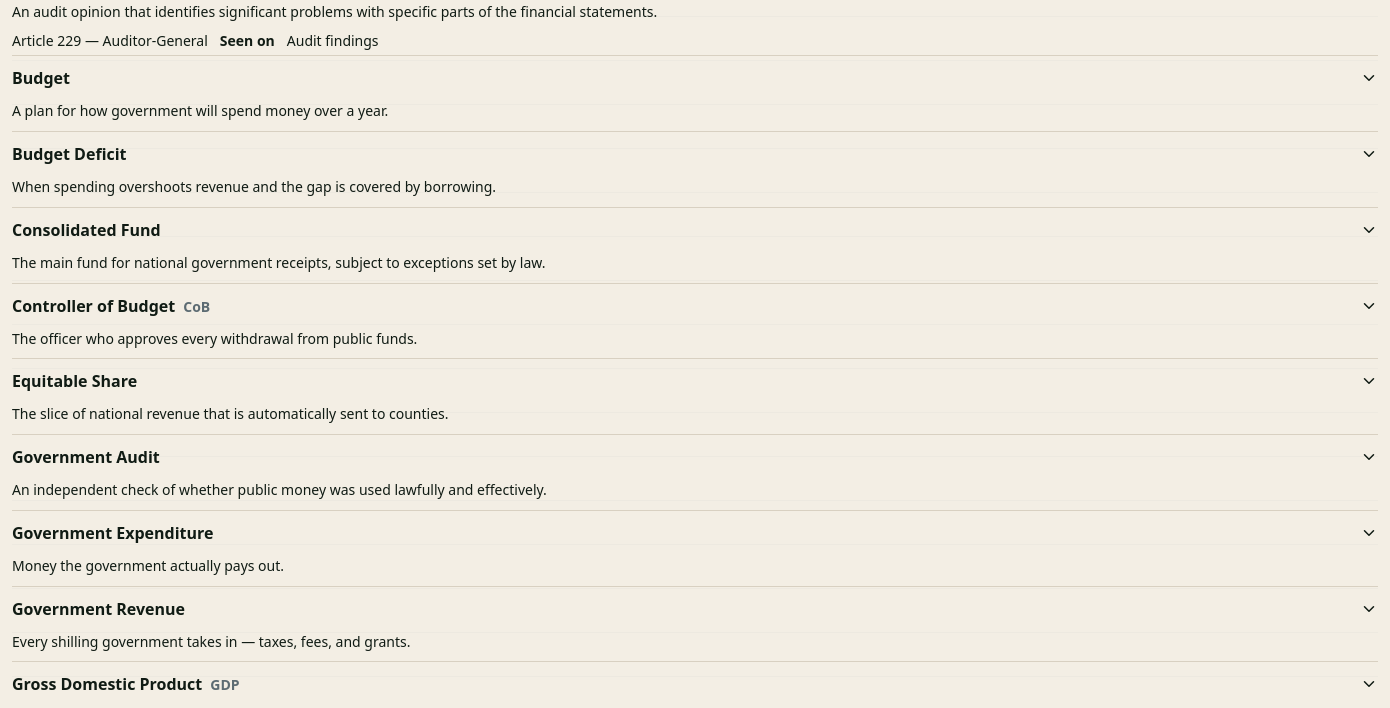
keeps the projected basis and only links a supplied live-example receipt
(page scrolled)
Click the button "Equitable Share": coordinates (75, 381) [12,359,1378,403]
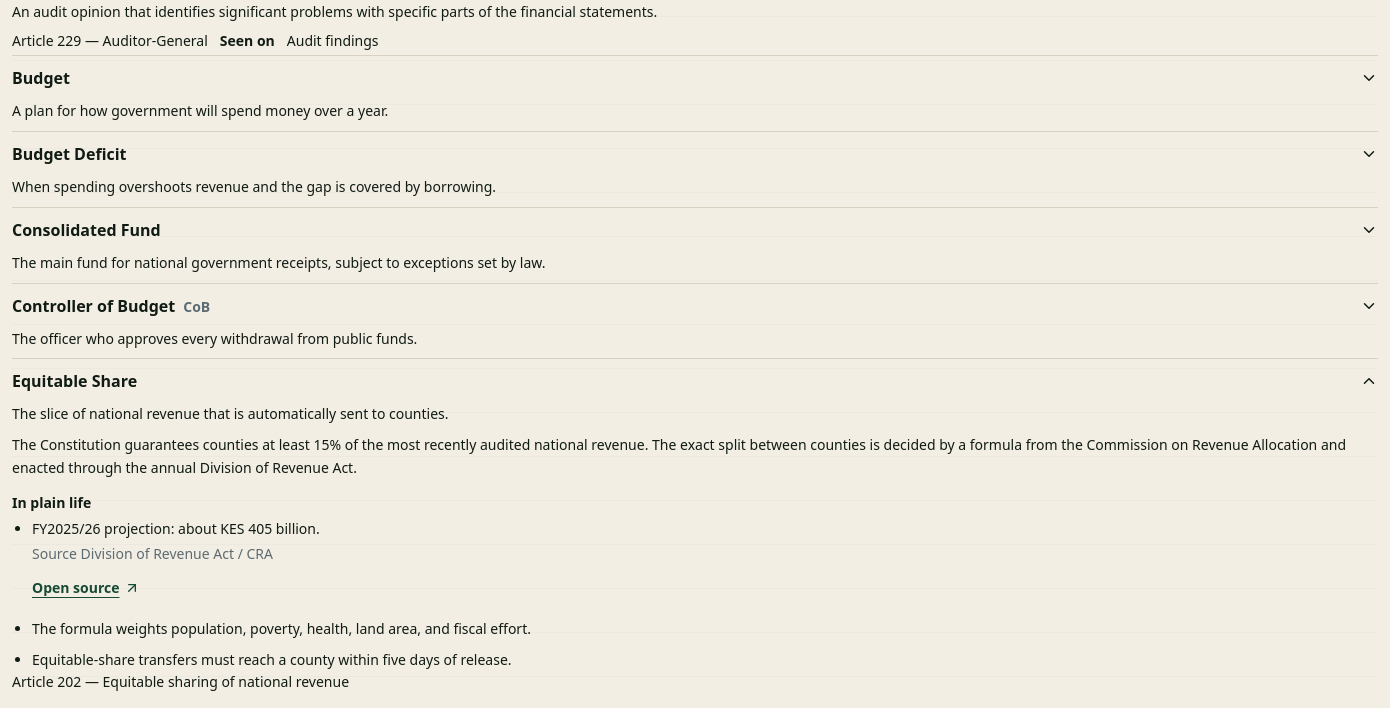
Now the text "FY2025/26 projection: about KES 405 billion." is shown, box [32,519,320,538]
